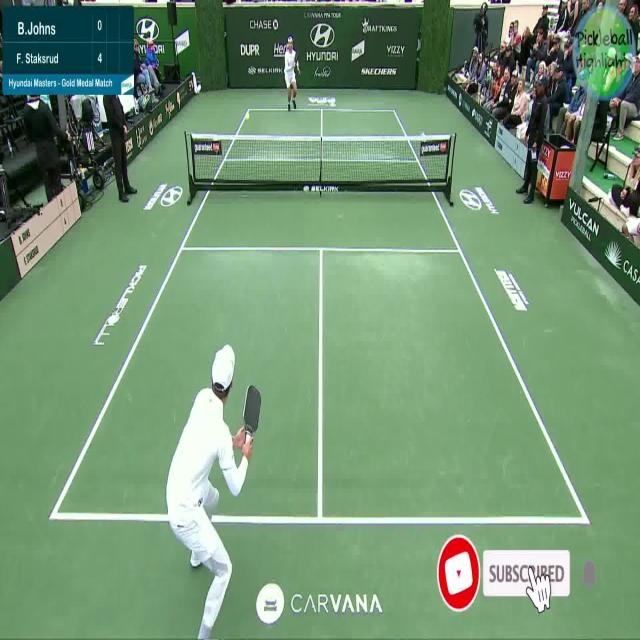ball: (246, 111, 250, 120)
